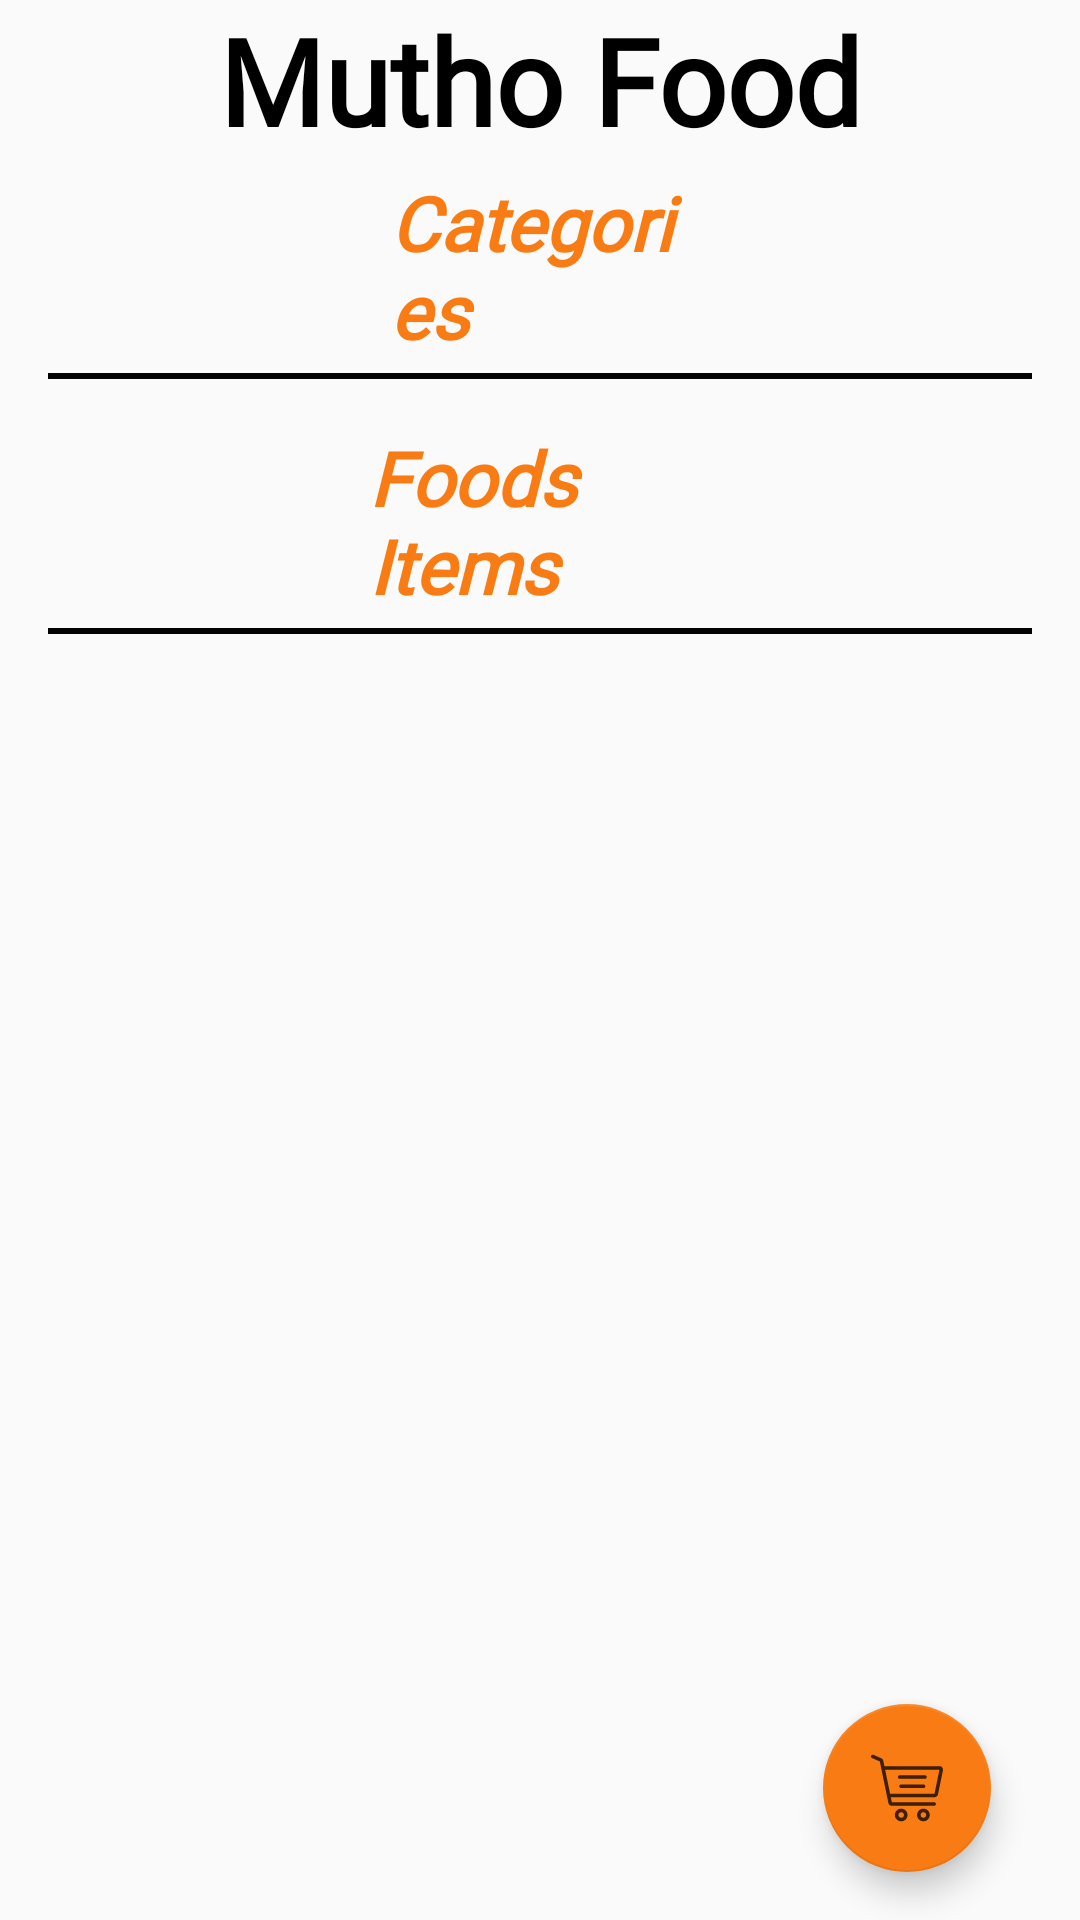

Where icons sit on this 1080 x 1920 app screen, as (x1=x1, y1=y1, x2=x2, y2=y2):
shopping cart: (x1=823, y1=1704, x2=991, y2=1872)
